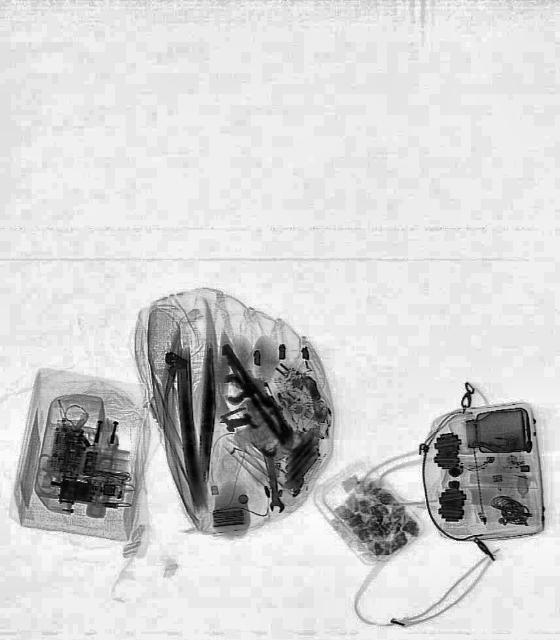Wrench: (262, 443, 286, 512)
